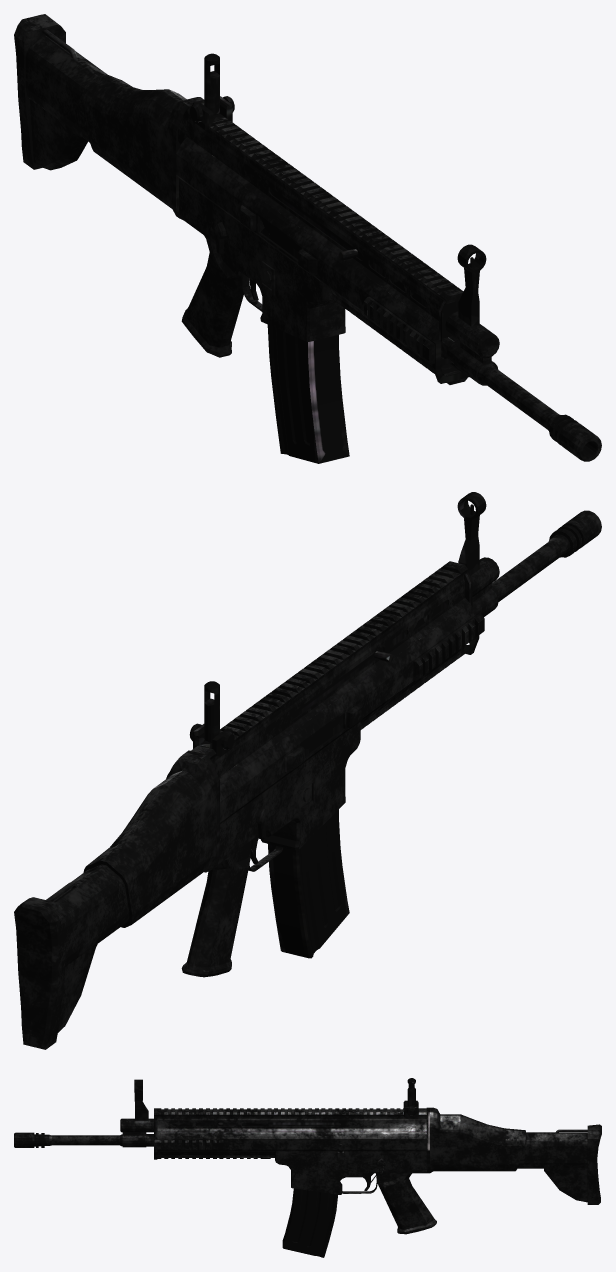
3 renders of one model, top to bottom at view 1: azimuth 30°, elevation 25°; view 2: azimuth 150°, elevation 25°; view 3: azimuth 270°, elevation 25°, orthographic. The views are drawn at different scales.
Parts seen in each view (by area): view 1: Cube_Cube.001, Cube.002_Cube.003, Cube.003_Cube.004, Cube.004_Cube.005, Cube.001_Cube.002, Cylinder; view 2: Cube_Cube.001, Cube.002_Cube.003, Cube.003_Cube.004, Cube.001_Cube.002, Cylinder, Cube.004_Cube.005; view 3: Cube_Cube.001, Cube.002_Cube.003, Cube.003_Cube.004, Cube.001_Cube.002, Cube.004_Cube.005.
Boxes of the visible parts, box(x1,y1,x2,y2) form: Cube_Cube.001: box(14, 14, 601, 461); Cube.002_Cube.003: box(267, 325, 349, 463); Cube.003_Cube.004: box(189, 53, 486, 326); Cube.004_Cube.005: box(173, 100, 468, 383); Cube.001_Cube.002: box(270, 187, 427, 307); Cylinder: box(260, 217, 358, 260); Cube_Cube.001: box(14, 510, 601, 1049); Cube.002_Cube.003: box(268, 809, 349, 958); Cube.003_Cube.004: box(189, 492, 486, 756); Cube.001_Cube.002: box(290, 599, 447, 720); Cylinder: box(301, 651, 393, 756); Cube.004_Cube.005: box(186, 572, 479, 868); Cube_Cube.001: box(14, 1107, 601, 1234); Cube.002_Cube.003: box(282, 1188, 337, 1257); Cube.003_Cube.004: box(134, 1078, 418, 1120); Cube.001_Cube.002: box(174, 1122, 340, 1126); Cube.004_Cube.005: box(154, 1107, 429, 1173).
Bounding box in the file's own units: 0.5325 × 3.05 × 9.3.
